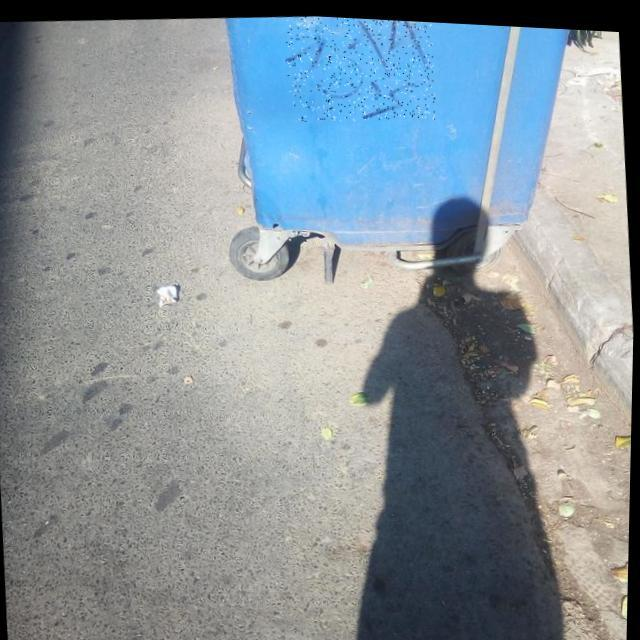-: (282, 12, 437, 124)
